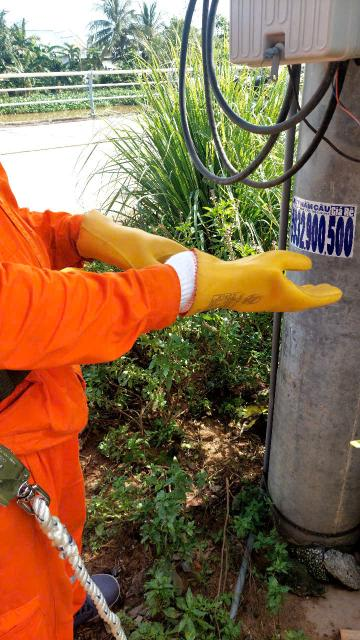gloves: (155, 244, 345, 327), (66, 190, 193, 289)
shoes: (49, 564, 129, 620)
